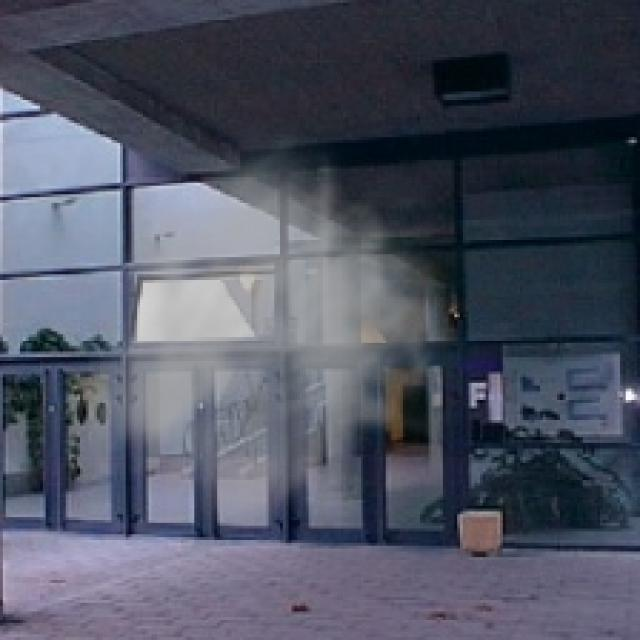smoke: (89, 120, 480, 540)
